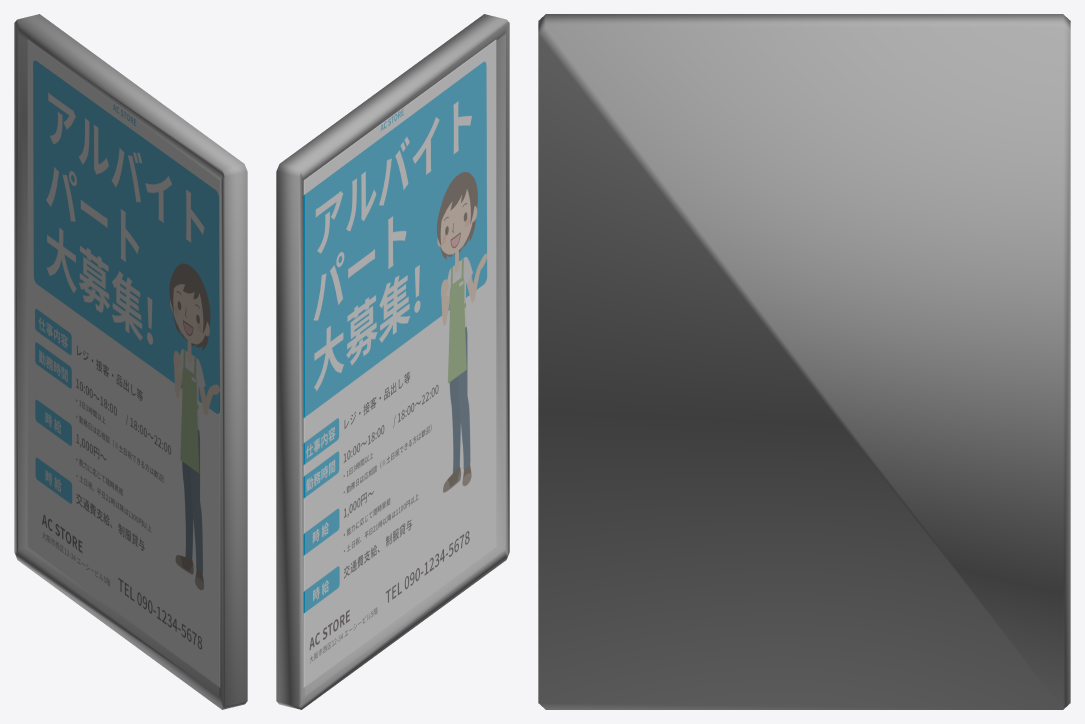
Rendered from poster_part.fbx.
3 renders of one model, left to right at view 1: azimuth 30°, elevation 25°; view 2: azimuth 150°, elevation 25°; view 3: azimuth 270°, elevation 25°, orthographic. The views are drawn at different scales.
Visible parts, largest first — view 1: frame, poster_part; view 2: frame, poster_part; view 3: frame.
Part boxes in pixels (bbox=[...]): frame: bbox=[14, 14, 247, 709]; poster_part: bbox=[27, 39, 220, 687]; frame: bbox=[276, 14, 509, 709]; poster_part: bbox=[303, 39, 496, 687]; frame: bbox=[538, 14, 1070, 709].
Bounding box in the file's own units: 27.18 × 594 × 420.
Materials: 3 (1 with a texture image).
